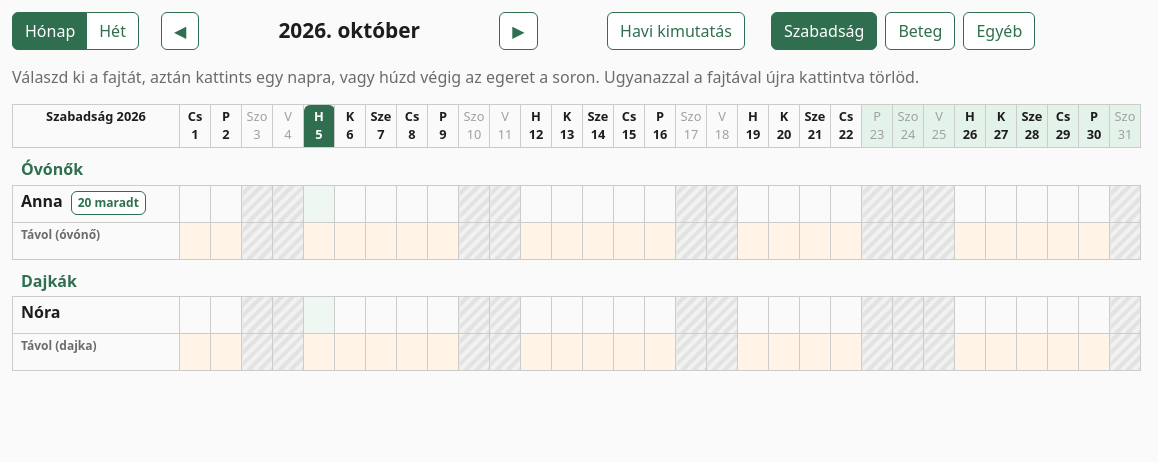
Test: AbsenceScreen kinds › opens the carry-over editor at 0 when nothing is carried over
The width and height of the screenshot is (1158, 462).
Click the button "20 maradt": click(108, 203) [71,191,146,215]
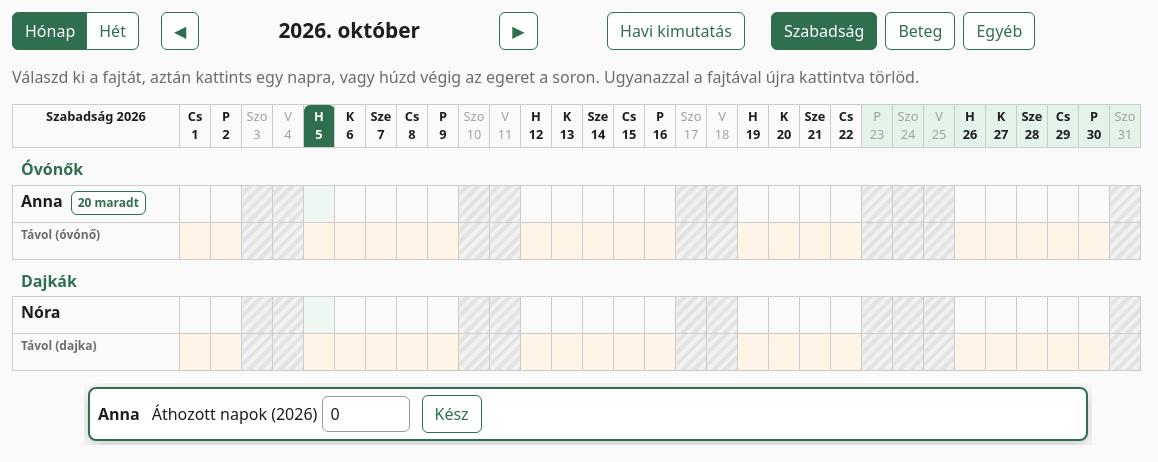
Result: the number field labelled "Áthozott napok (2026)" holds "0" at [322,396,410,432]
